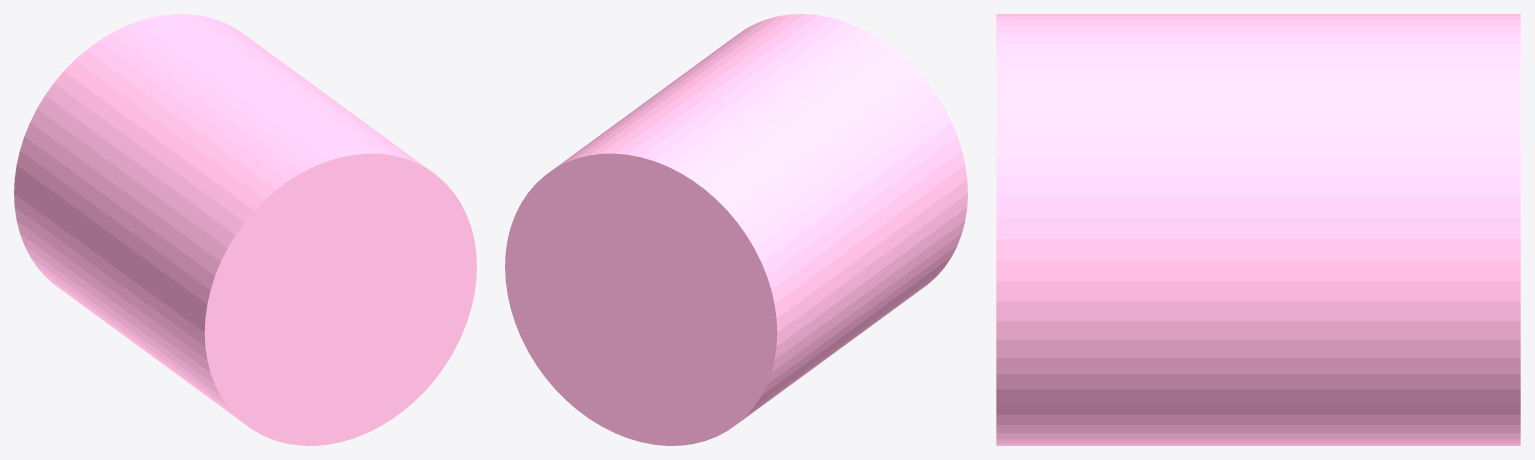
The model's file is tabung.glb.
3 views of the same model, side by side, from view 1: azimuth 30°, elevation 25°; view 2: azimuth 150°, elevation 25°; view 3: azimuth 270°, elevation 25° (orthographic). The views are drawn at different scales.
Visible parts, largest first — view 1: tabung; view 2: tabung; view 3: tabung.
Part boxes in pixels (bbox=[...]): tabung: bbox=[14, 14, 476, 445]; tabung: bbox=[505, 14, 967, 445]; tabung: bbox=[996, 14, 1520, 445].
Bounding box in the file's own units: 1.36 × 1.36 × 1.65.
